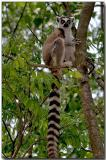cat: (40, 11, 83, 153)
